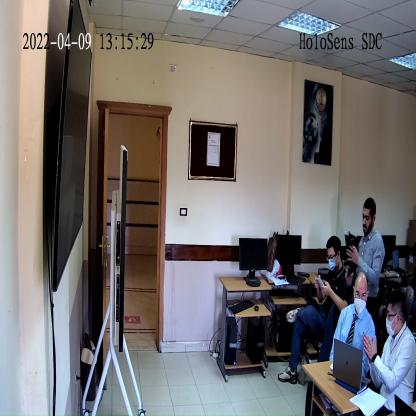handgun: (340, 230, 356, 289)
